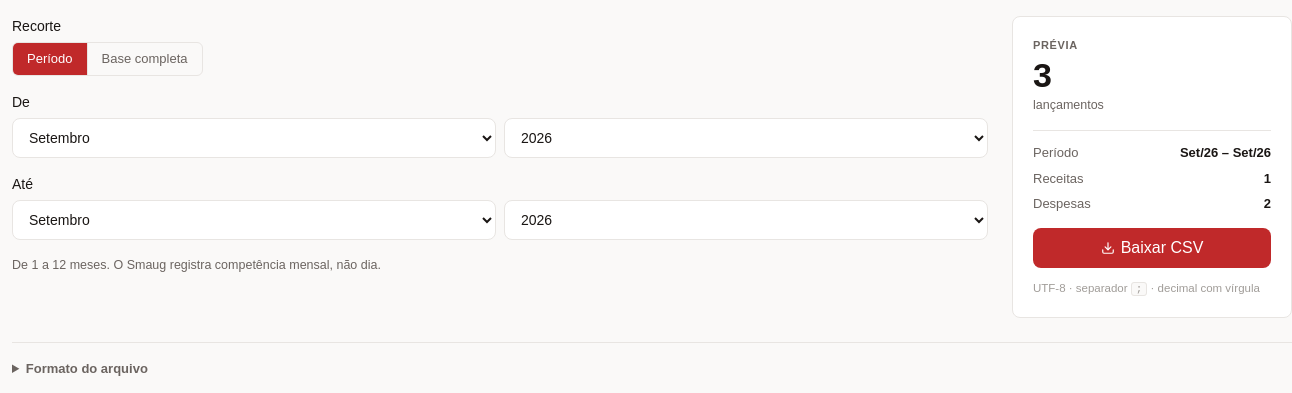
it: ExportPanel › desabilita o download enquanto o período está inválido
Select "Junho" in the dropdown named "De — mês" at [254, 138], box [12, 118, 496, 158]
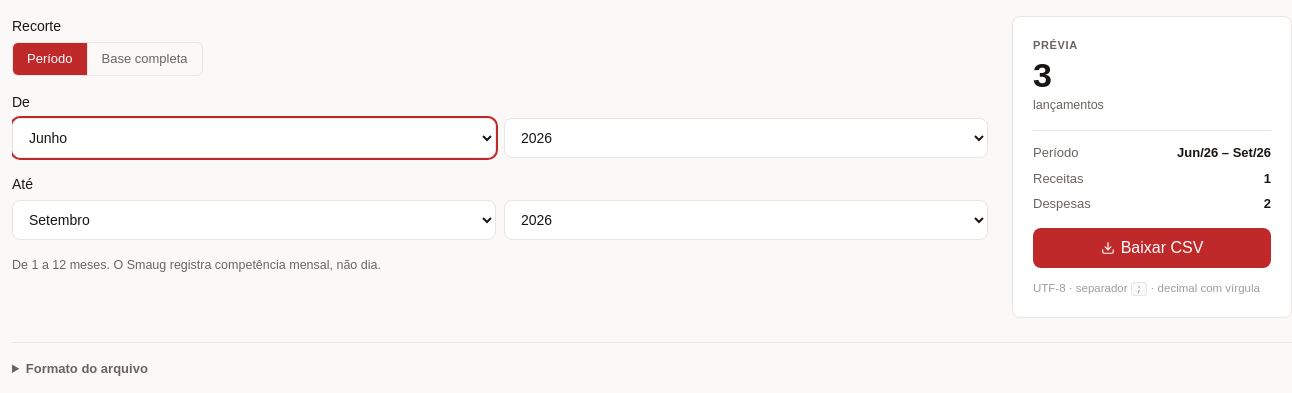
Select "Março" in the dropdown named "Até — mês" at [254, 220], box [12, 200, 496, 240]
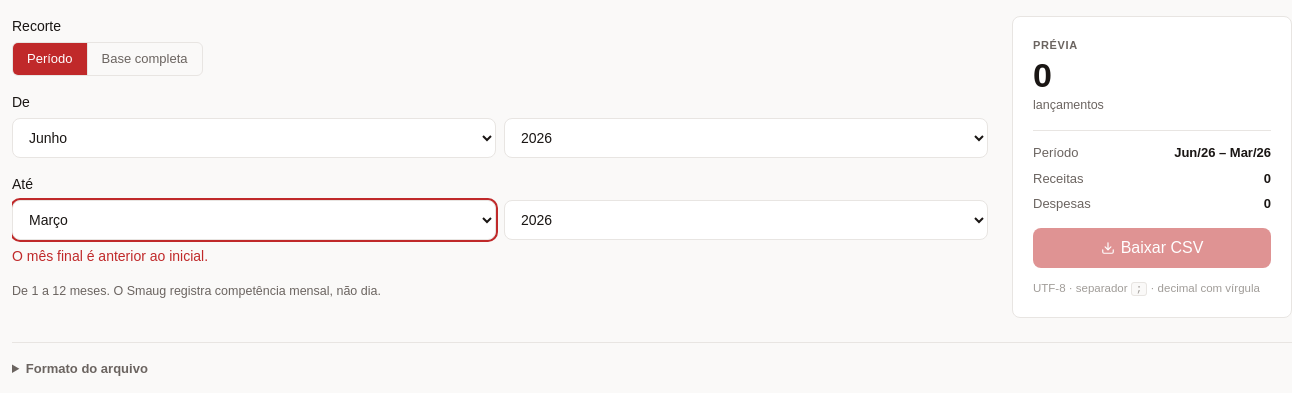
Check: the button "Baixar CSV" is disabled, box [1033, 228, 1271, 268]
